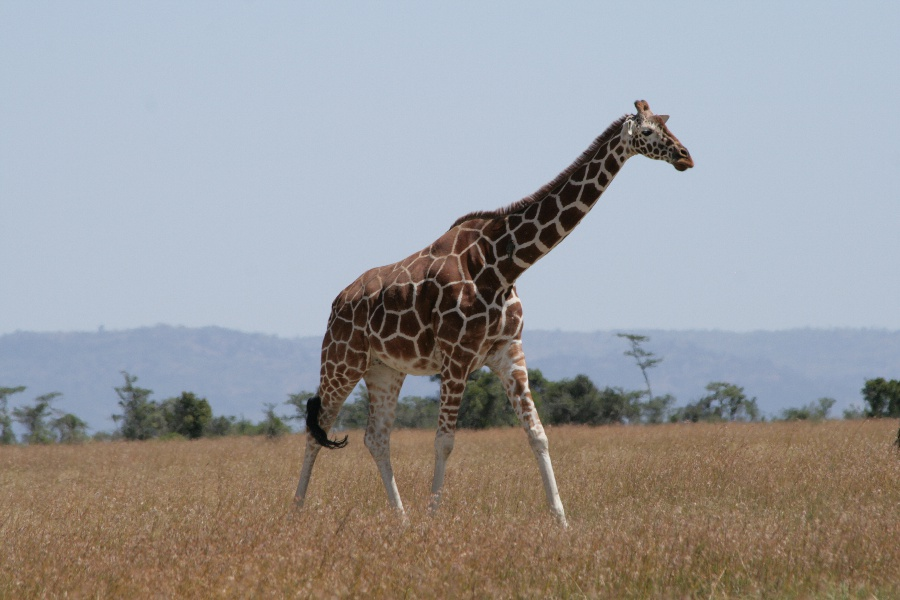giraffe: (281, 93, 698, 531)
